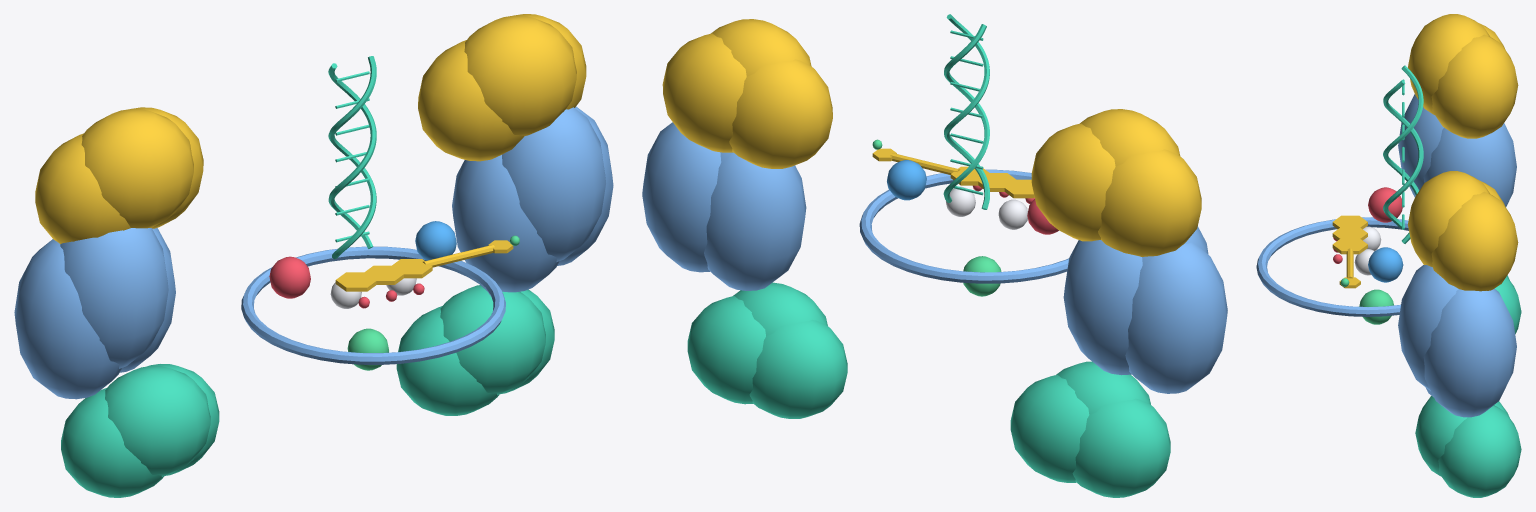
File: hiv_integrase_insti.glb
The picture shows the model from 3 angles, left to right: view 1: azimuth 30°, elevation 25°; view 2: azimuth 150°, elevation 25°; view 3: azimuth 270°, elevation 25°; orthographic projection. The views are drawn at different scales.
Parts seen in each view (by area): view 1: integrase-dimer, viral-dna-end, catalytic-residues, insti-drug, magnesium-ions; view 2: integrase-dimer, viral-dna-end, catalytic-residues, insti-drug, magnesium-ions; view 3: integrase-dimer, catalytic-residues, viral-dna-end, insti-drug, magnesium-ions.
Boxes of the visible parts, x1=… form: integrase-dimer: x1=14, y1=14, x2=613, y2=497; viral-dna-end: x1=328, y1=56, x2=376, y2=259; catalytic-residues: x1=269, y1=221, x2=456, y2=370; insti-drug: x1=335, y1=235, x2=519, y2=308; magnesium-ions: x1=330, y1=278, x2=416, y2=308; integrase-dimer: x1=642, y1=19, x2=1227, y2=497; viral-dna-end: x1=943, y1=14, x2=989, y2=209; catalytic-residues: x1=887, y1=160, x2=1058, y2=296; insti-drug: x1=872, y1=139, x2=1034, y2=203; magnesium-ions: x1=946, y1=186, x2=1027, y2=229; integrase-dimer: x1=1256, y1=14, x2=1521, y2=497; catalytic-residues: x1=1359, y1=187, x2=1403, y2=324; viral-dna-end: x1=1383, y1=65, x2=1423, y2=243; insti-drug: x1=1332, y1=215, x2=1367, y2=288; magnesium-ions: x1=1354, y1=226, x2=1381, y2=275.
Bounding box in the file's own units: 0.3225 × 0.218 × 0.1497.
